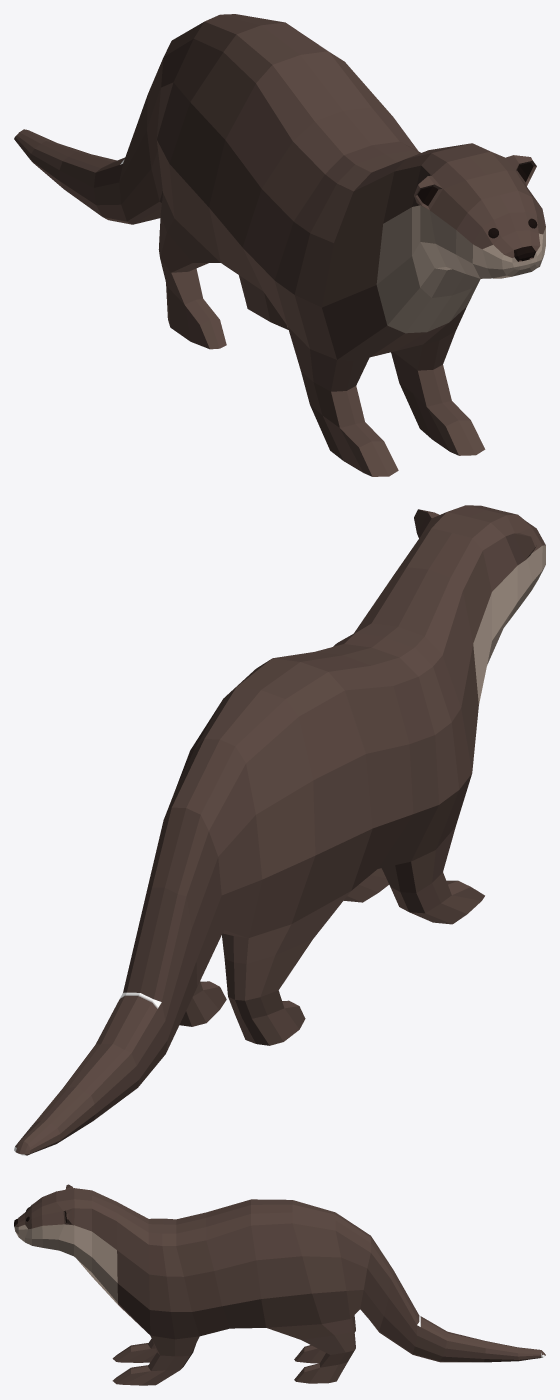
The model's file is Nutria1.obj.
3 views of the same model, one above another, from view 1: azimuth 30°, elevation 25°; view 2: azimuth 150°, elevation 25°; view 3: azimuth 270°, elevation 25° (orthographic). The views are drawn at different scales.
Parts seen in each view (by area): view 1: otter:Mesh; view 2: otter:Mesh; view 3: otter:Mesh.
Boxes of the visible parts, x1,y1,x2,y2 form: otter:Mesh: [14, 14, 545, 476]; otter:Mesh: [14, 505, 545, 1155]; otter:Mesh: [14, 1184, 545, 1385].
Size of the model in its own units: 0.7606 by 1.43 by 3.91.
3 materials, 3 textured.
